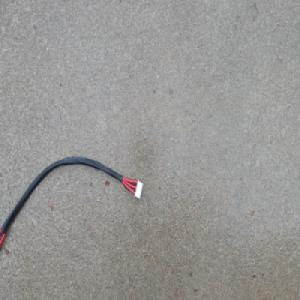Wire: (0, 155, 144, 253)
